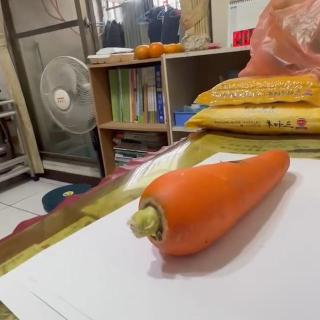carrot: (126, 148, 290, 258)
